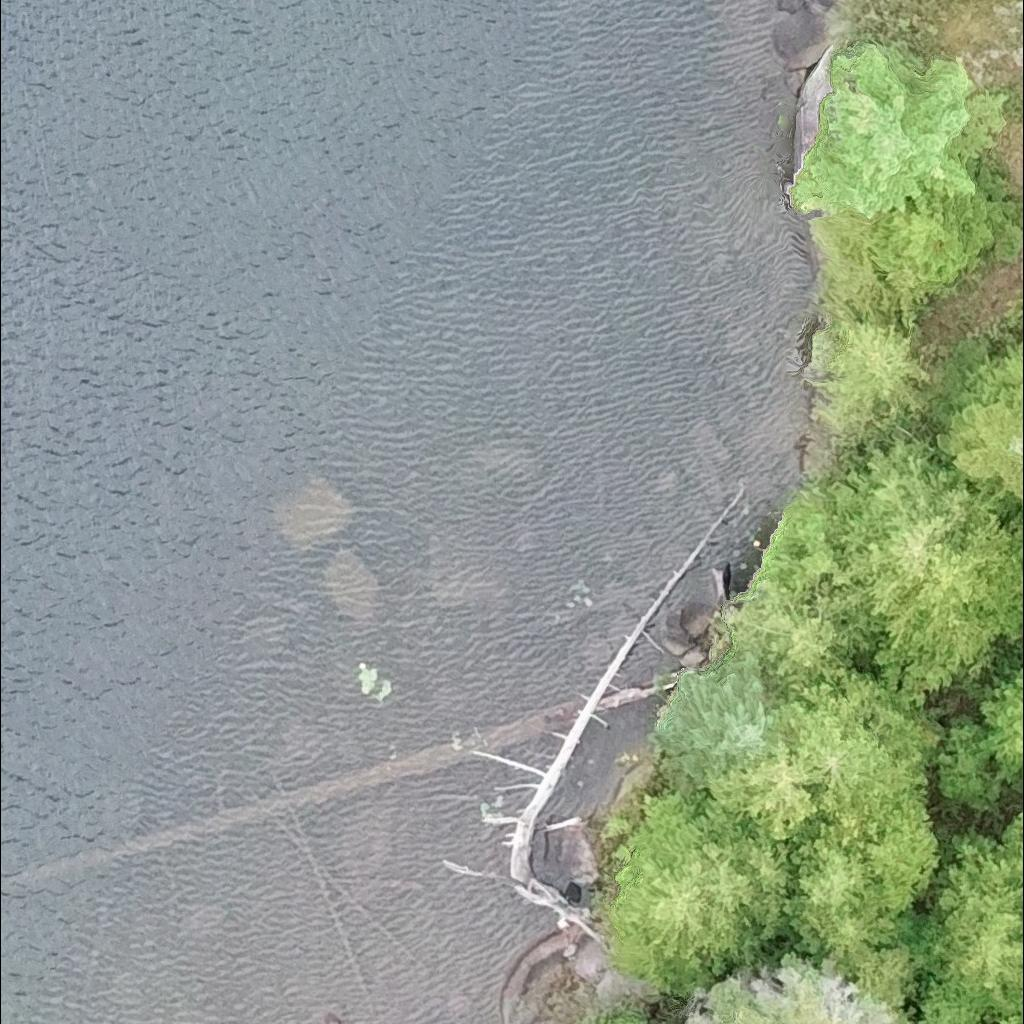crown: (791, 42, 1009, 220), (870, 158, 1022, 289), (809, 200, 927, 336), (809, 320, 930, 436), (937, 387, 1023, 501), (975, 344, 1023, 405)
